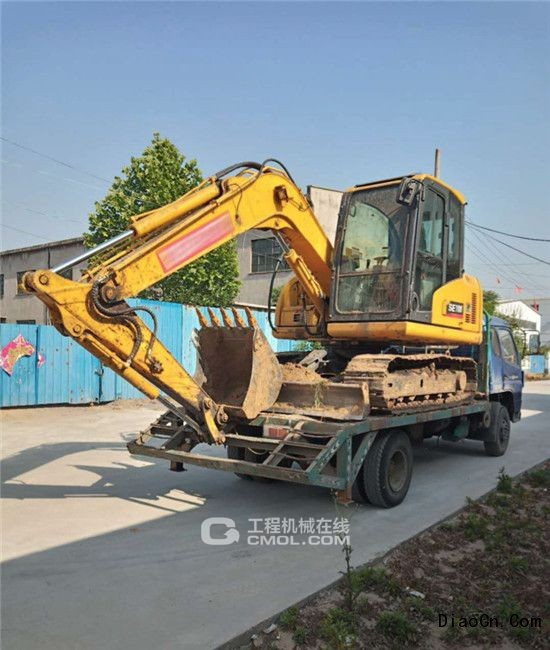excavator: (22, 137, 540, 518)
